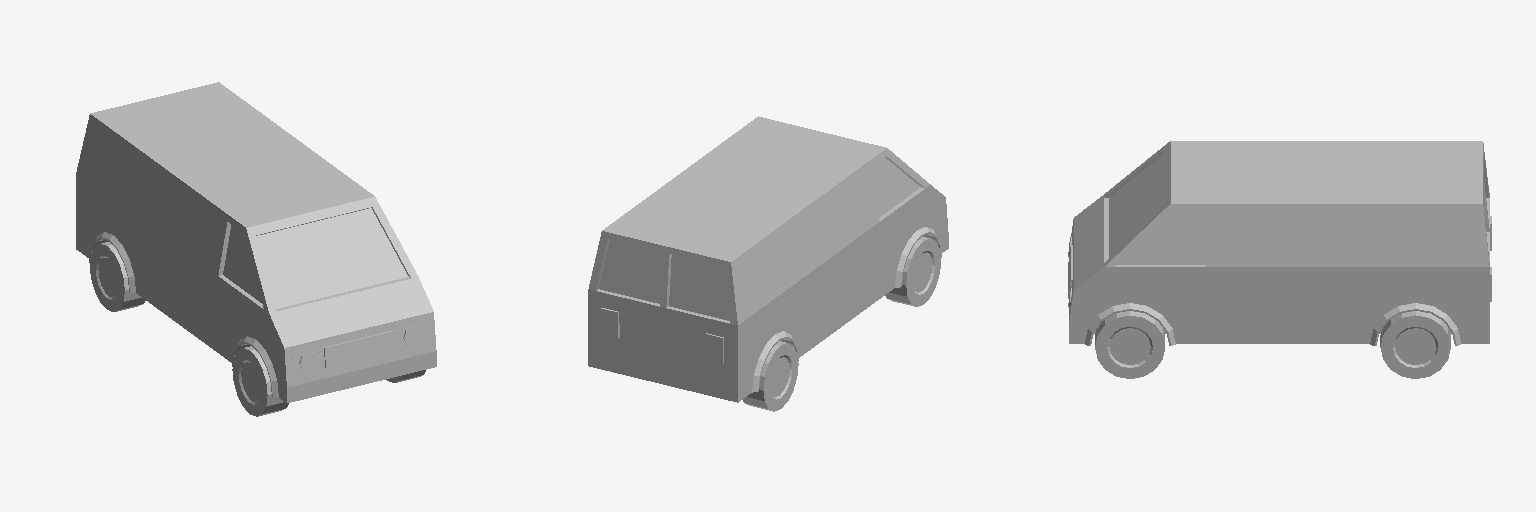
The model's file is car-van-red.obj.
The picture shows the model from 3 angles: view 1: azimuth 30°, elevation 25°; view 2: azimuth 150°, elevation 25°; view 3: azimuth 270°, elevation 25°; orthographic projection.
Parts seen in each view (by area): view 1: car-van-red_Cube.624; view 2: car-van-red_Cube.624; view 3: car-van-red_Cube.624.
Part boxes in pixels (x1,y1,x2,y2): car-van-red_Cube.624: (76, 82, 436, 416); car-van-red_Cube.624: (588, 116, 948, 411); car-van-red_Cube.624: (1068, 141, 1491, 378).
Size of the model in its own units: 0.954 by 0.945 by 2.16.